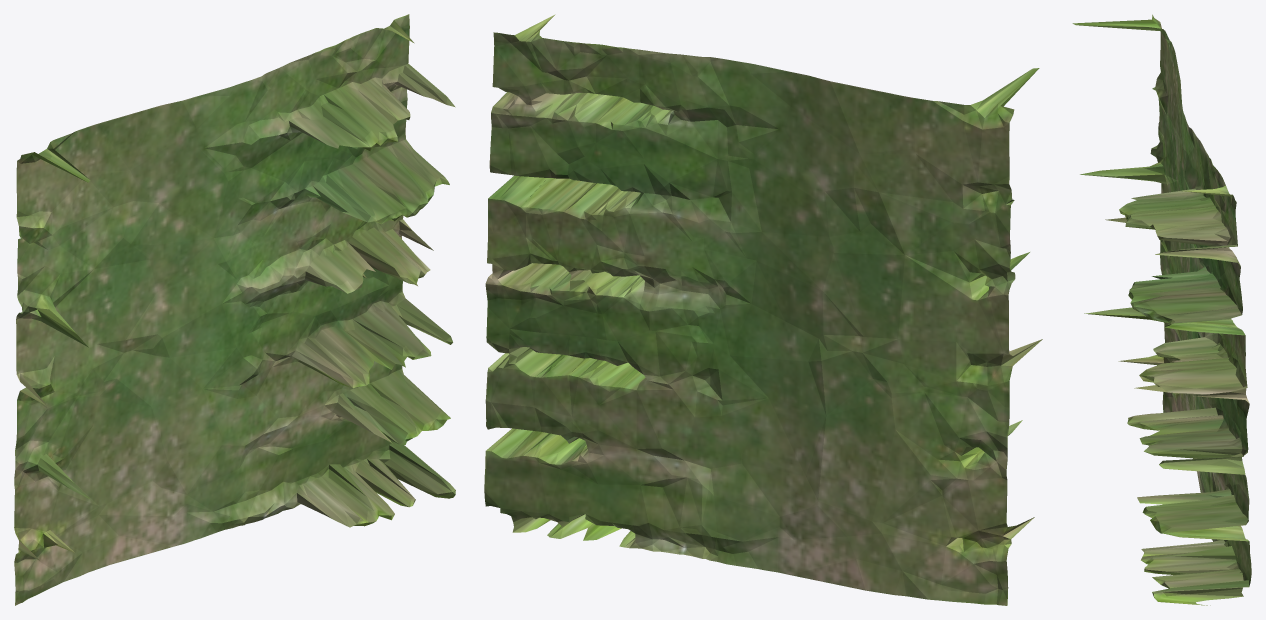
The model's file is map_170_10.obj.
3 renders of one model, left to right at view 1: azimuth 30°, elevation 25°; view 2: azimuth 150°, elevation 25°; view 3: azimuth 270°, elevation 25°, orthographic. The views are drawn at different scales.
Visible parts, largest first — view 1: grp1; view 2: grp1; view 3: grp1.
Part boxes in pixels (x1,y1,x2,y2): grp1: (14,14,455,605); grp1: (484,14,1042,605); grp1: (1072,14,1251,605).
Bounding box in the file's own units: 10 × 10 × 4.03.
1 material, 1 textured.
